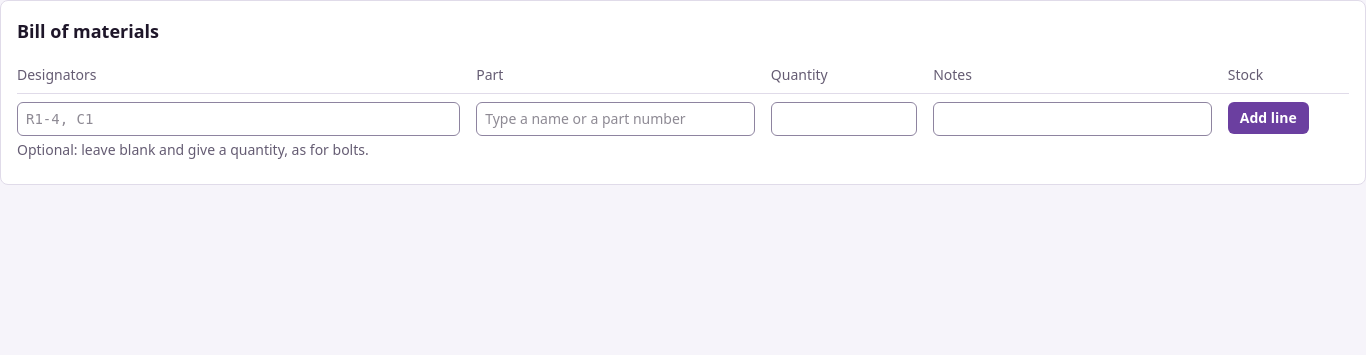
Scenario: BomAddRow › adds a line with Enter from designators
Type "wire" into the dropdown labelled "part" at (616, 119), box [476,102,755,136]
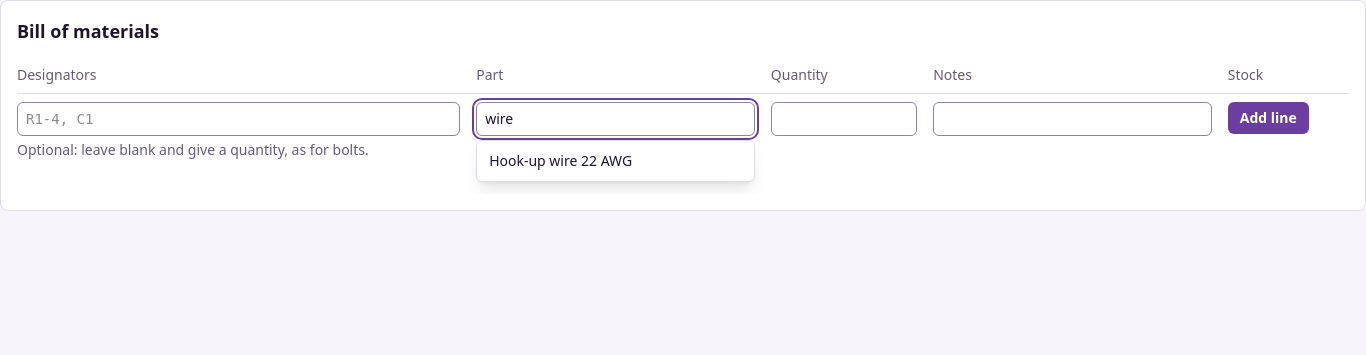
Press Arrowdown
Press Enter
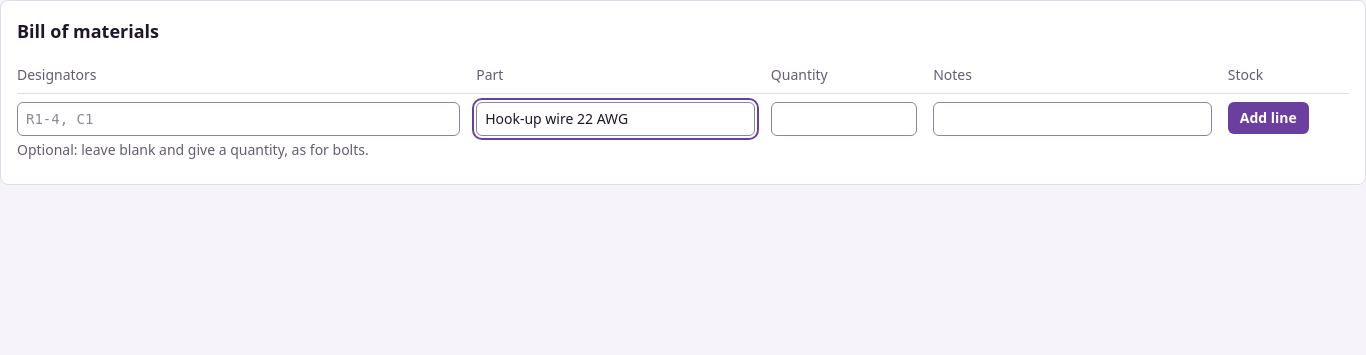
Type "1" into the number field named "Quantity" at (844, 119), box [771,102,917,136]
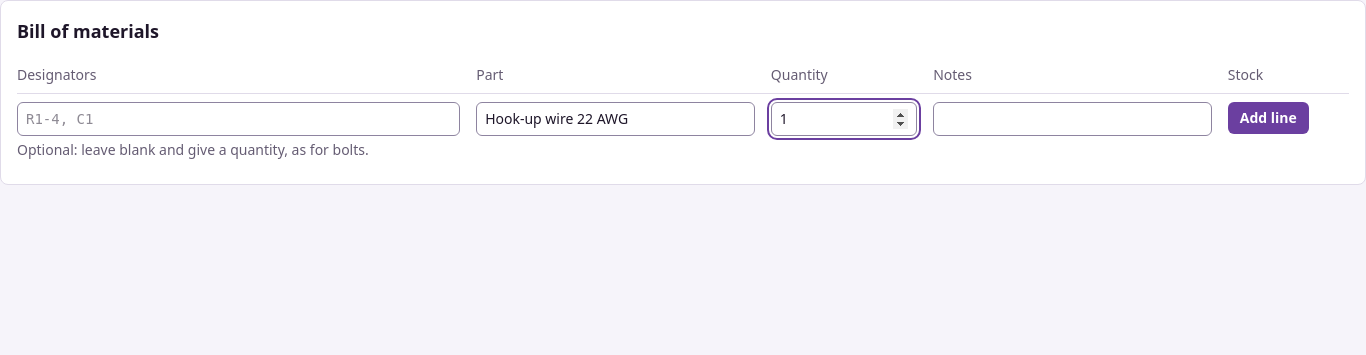
Type "2 m" into the field named "Notes" at (1072, 119), box [933,102,1212,136]
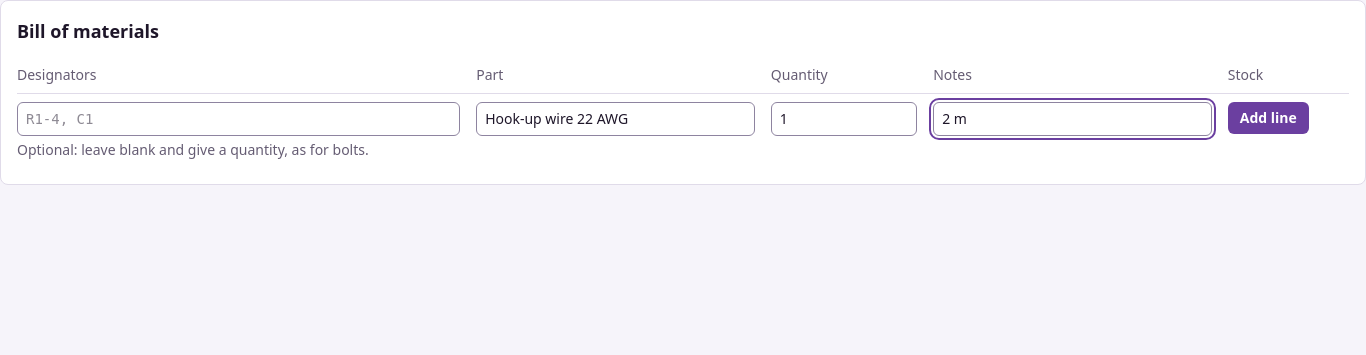
Click the field named "Designators" at (239, 119), box [17,102,460,136]
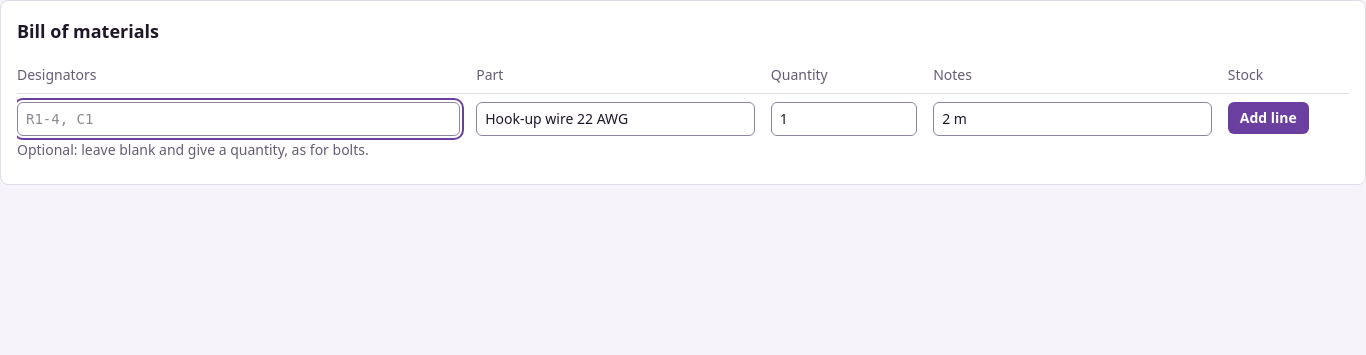
Press Enter
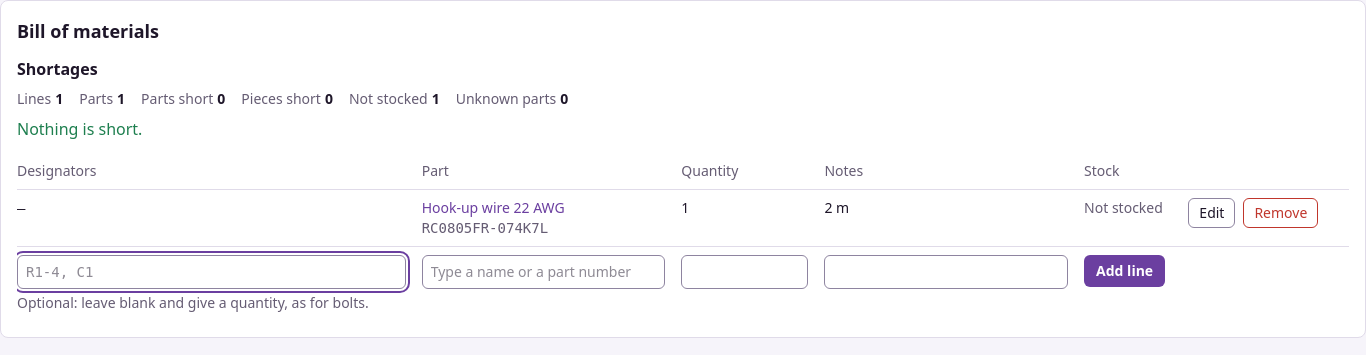
Check: the text "Not stocked" is shown, box [1084,190,1188,246]
